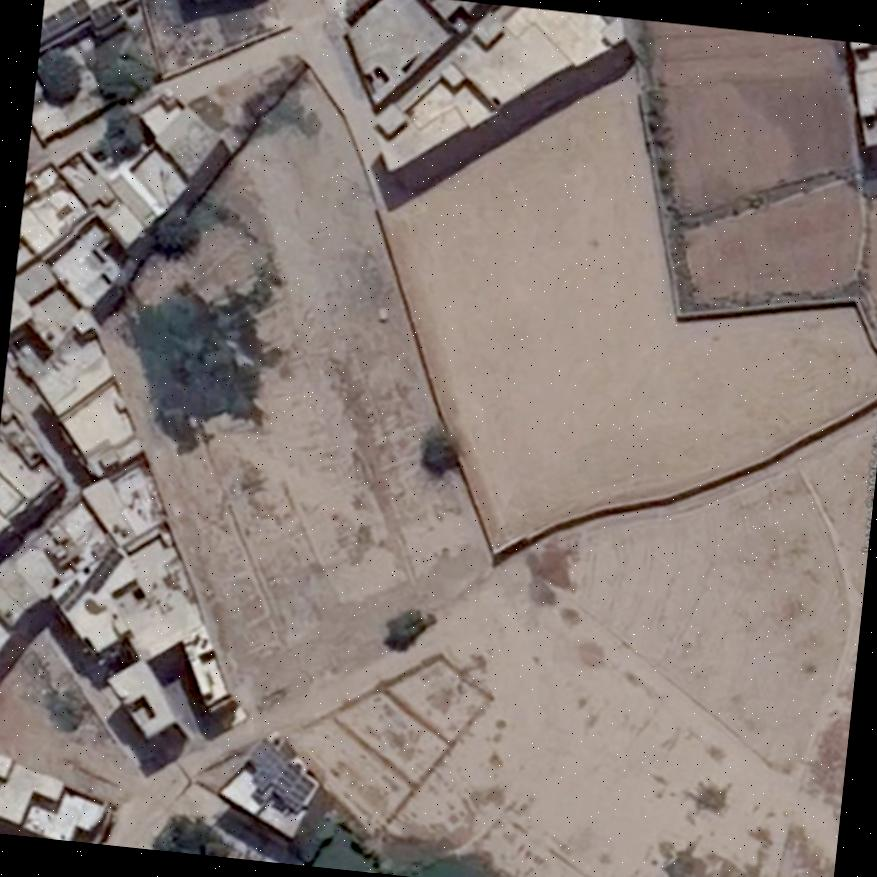Solarpanel: (240, 736, 315, 810)
